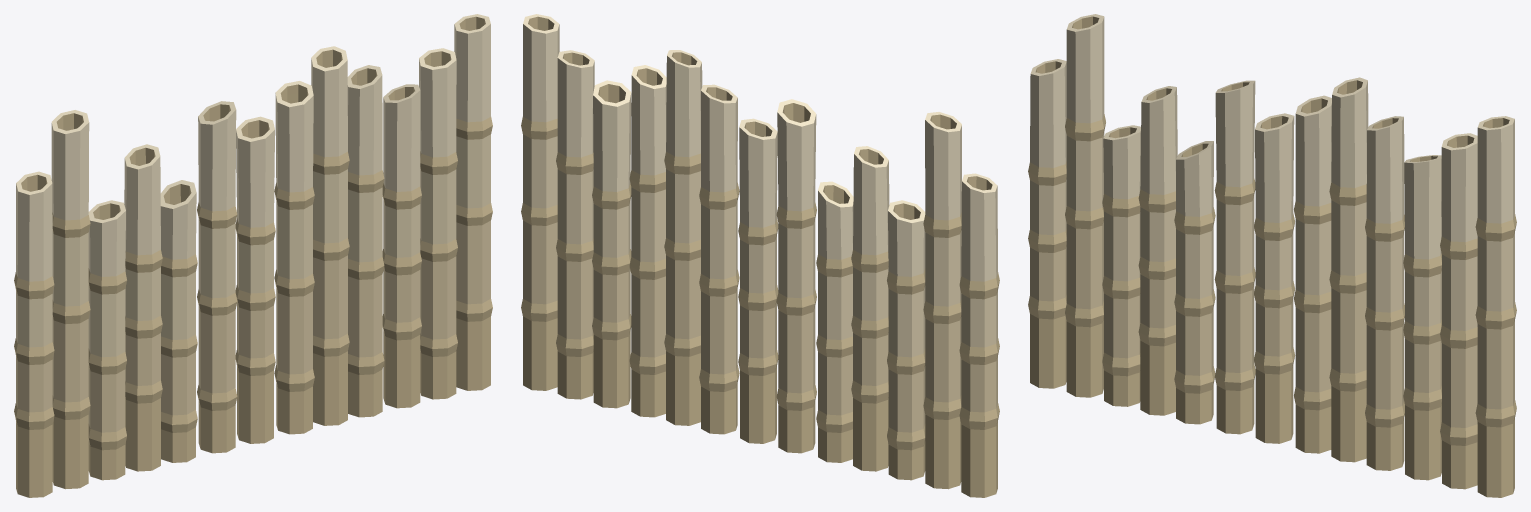
The model's file is fence_bamboo_brown_2.fbx.
The picture shows the model from 3 angles, left to right: view 1: azimuth 30°, elevation 25°; view 2: azimuth 150°, elevation 25°; view 3: azimuth 330°, elevation 25°; orthographic projection. The views are drawn at different scales.
Visible parts, largest first — view 1: fence_bamboo_brown_2; view 2: fence_bamboo_brown_2; view 3: fence_bamboo_brown_2.
Boxes of the visible parts, bbox=[...] form: fence_bamboo_brown_2: bbox=[14, 14, 492, 497]; fence_bamboo_brown_2: bbox=[521, 14, 999, 497]; fence_bamboo_brown_2: bbox=[1028, 14, 1516, 497].
Size of the model in its own units: 317 by 232 by 24.2.
